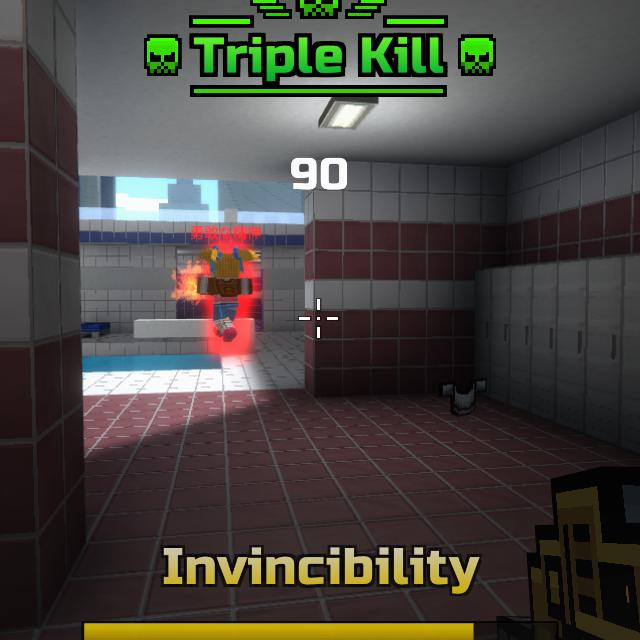Enemy: (198, 253, 253, 343)
